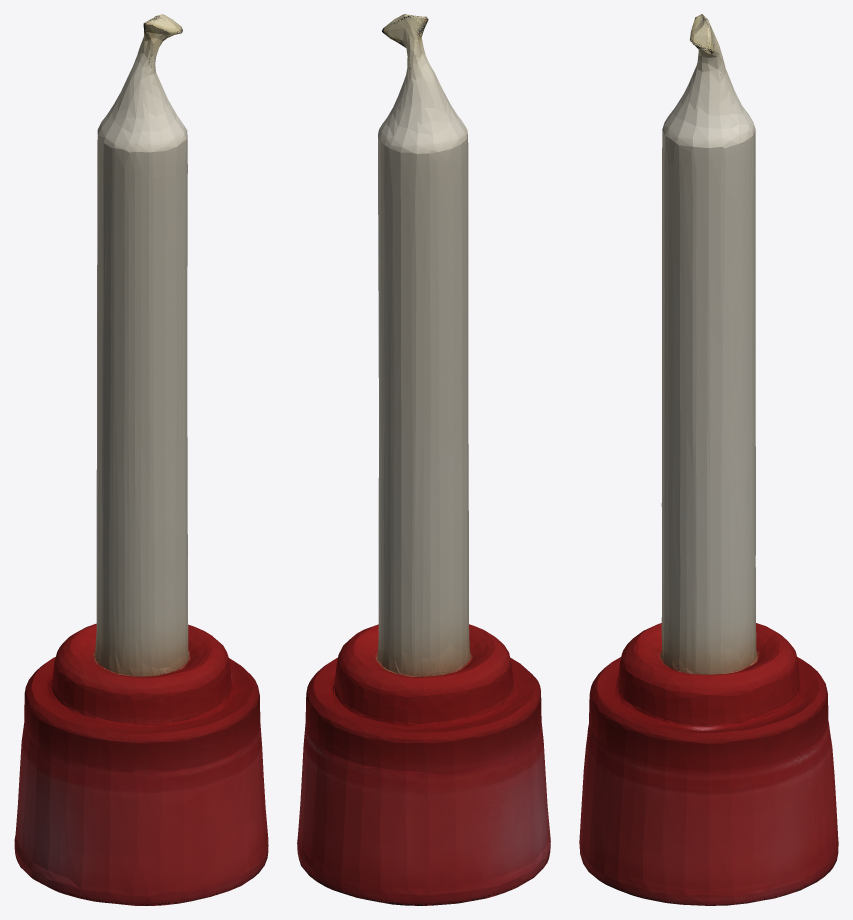
3 renders of one model, left to right at view 1: azimuth 30°, elevation 25°; view 2: azimuth 150°, elevation 25°; view 3: azimuth 270°, elevation 25°, orthographic.
Parts seen in each view (by area): view 1: g0; view 2: g0; view 3: g0.
Part boxes in pixels (x1,y1,x2,y2): g0: [14, 14, 268, 905]; g0: [297, 14, 550, 905]; g0: [579, 14, 838, 905].
Size of the model in its own units: 0.553 by 2 by 0.5592.
Materials: 1 (1 with a texture image).
